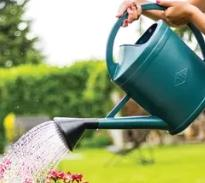ARROSOIR: (0, 1, 205, 179)
